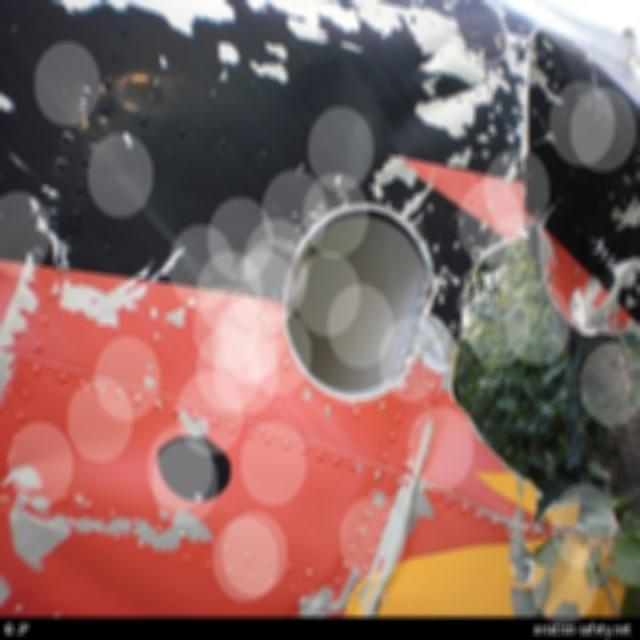dent: (385, 89, 425, 143)
